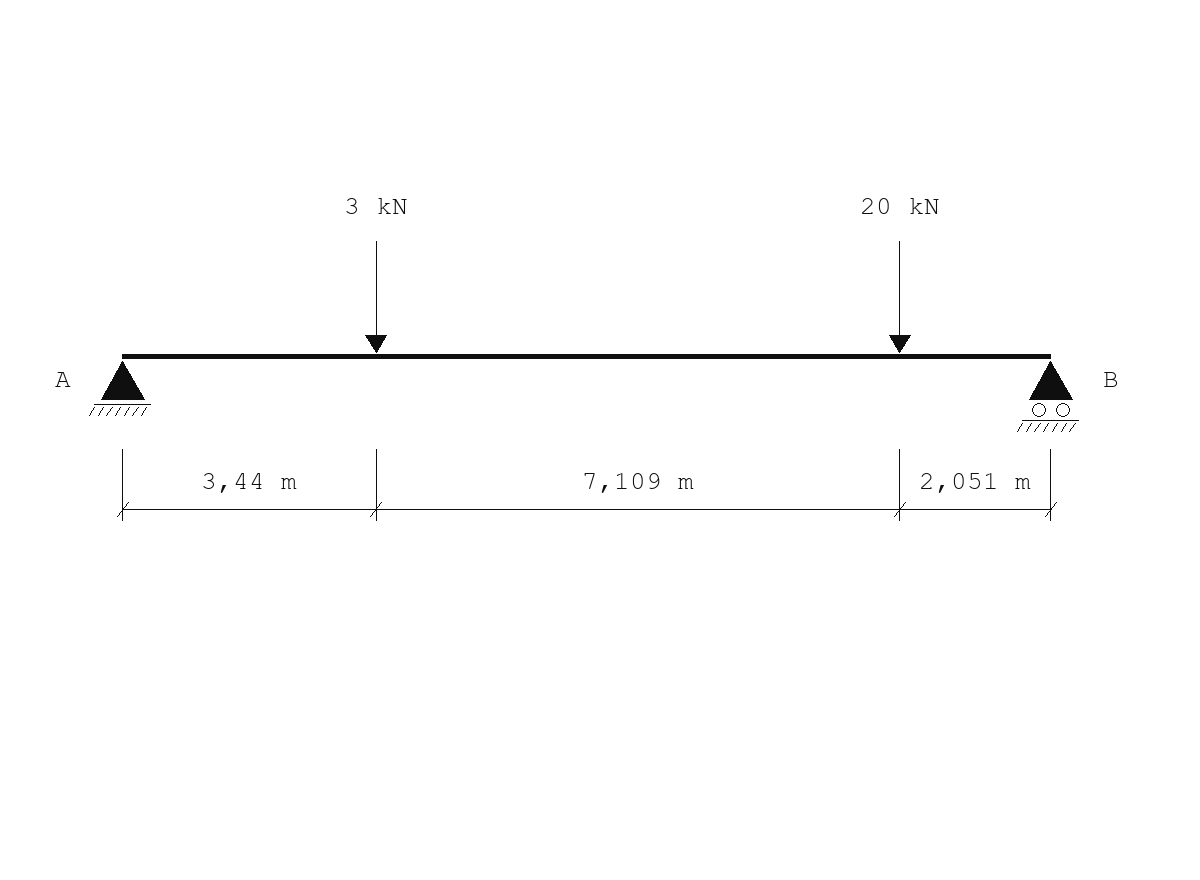pin_support: (89, 361, 151, 416)
point_load: (365, 241, 387, 353), (889, 241, 911, 353)
roller_support: (1017, 361, 1079, 432)
